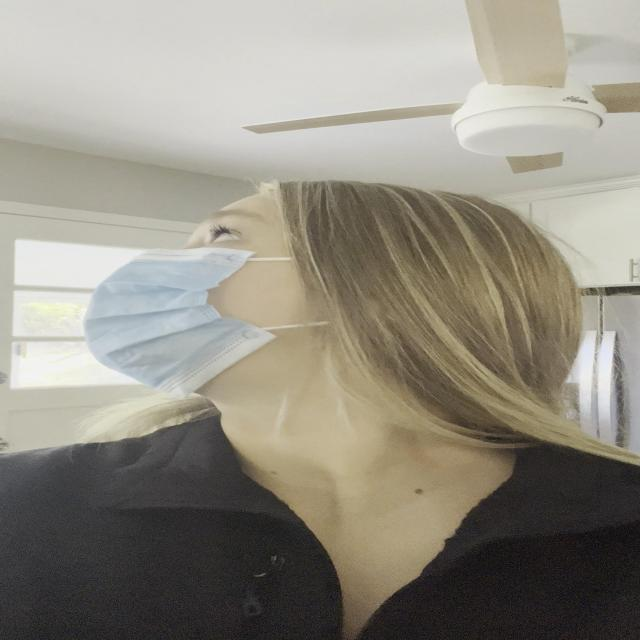no hat: (80, 192, 332, 398)
